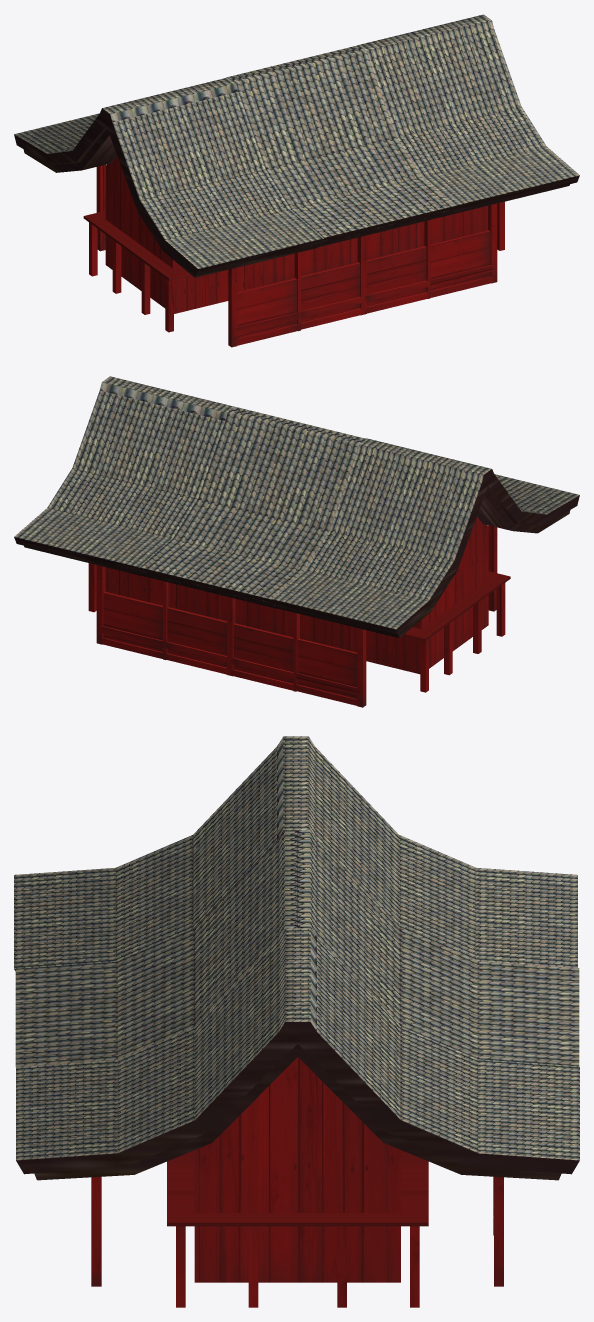
File: CasaMayor.obj
3 renders of one model, top to bottom at view 1: azimuth 30°, elevation 25°; view 2: azimuth 150°, elevation 25°; view 3: azimuth 270°, elevation 25°, orthographic. The views are drawn at different scales.
Visible parts, largest first — view 1: TechoCasaMayor, CasaMayor; view 2: TechoCasaMayor, CasaMayor; view 3: TechoCasaMayor, CasaMayor.
Boxes of the visible parts, bbox=[...] form: TechoCasaMayor: bbox=[14, 14, 579, 277]; CasaMayor: bbox=[83, 156, 504, 347]; TechoCasaMayor: bbox=[14, 376, 579, 638]; CasaMayor: bbox=[88, 517, 510, 707]; TechoCasaMayor: bbox=[14, 736, 579, 1180]; CasaMayor: bbox=[91, 1057, 503, 1307].
Size of the model in its own units: 119 by 59.72 by 99.5.
Materials: 2 (2 with a texture image).
